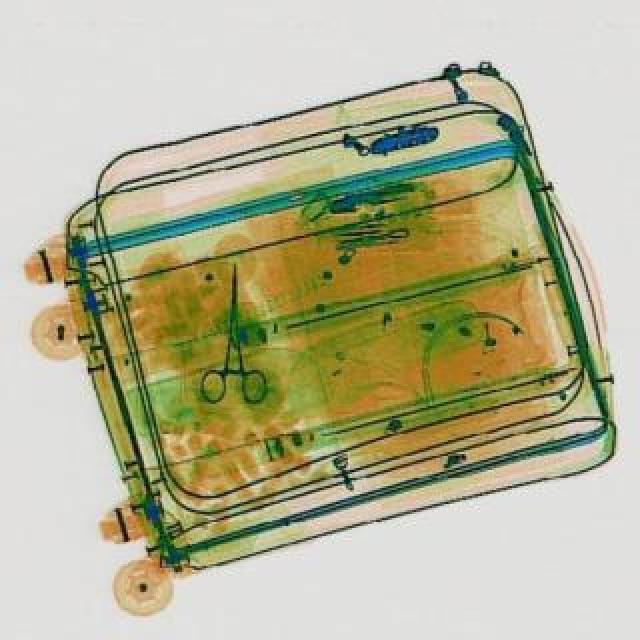pliers: (204, 262, 272, 400)
